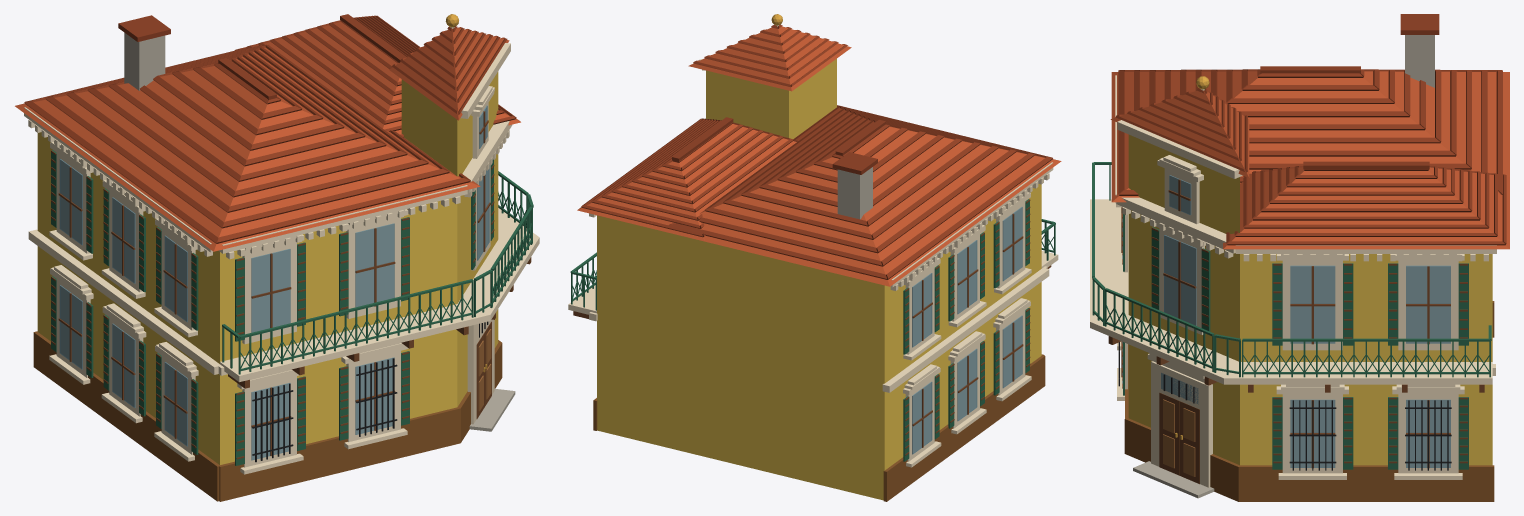
The model's file is casa-esquina-amarilla.glb.
3 views of the same model, side by side, from view 1: azimuth 30°, elevation 25°; view 2: azimuth 150°, elevation 25°; view 3: azimuth 270°, elevation 25° (orthographic). The views are drawn at different scales.
Visible parts, largest first — view 1: Casa_Esquina_Amarilla_Crema, Casa_Esquina_Amarilla_Teja, Casa_Esquina_Amarilla_MuroAmarillo, Casa_Esquina_Amarilla_TejaOscura, Casa_Esquina_Amarilla_Vidrio, Casa_Esquina_Amarilla_VerdeDetalle, Casa_Esquina_Amarilla_Zocalo, Casa_Esquina_Amarilla_Madera, Casa_Esquina_Amarilla_Piedra, Casa_Esquina_Amarilla_Hierro, Casa_Esquina_Amarilla_MaderaClara; view 2: Casa_Esquina_Amarilla_MuroAmarillo, Casa_Esquina_Amarilla_Teja, Casa_Esquina_Amarilla_TejaOscura, Casa_Esquina_Amarilla_Crema, Casa_Esquina_Amarilla_Vidrio, Casa_Esquina_Amarilla_VerdeDetalle, Casa_Esquina_Amarilla_Zocalo, Casa_Esquina_Amarilla_Madera, Casa_Esquina_Amarilla_Piedra; view 3: Casa_Esquina_Amarilla_Crema, Casa_Esquina_Amarilla_Teja, Casa_Esquina_Amarilla_MuroAmarillo, Casa_Esquina_Amarilla_TejaOscura, Casa_Esquina_Amarilla_VerdeDetalle, Casa_Esquina_Amarilla_Vidrio, Casa_Esquina_Amarilla_Zocalo, Casa_Esquina_Amarilla_Madera, Casa_Esquina_Amarilla_Hierro, Casa_Esquina_Amarilla_Piedra, Casa_Esquina_Amarilla_MaderaClara.
Boxes of the visible parts, box(x1,y1,x2,y2) form: Casa_Esquina_Amarilla_Crema: box(24, 27, 539, 474); Casa_Esquina_Amarilla_Teja: box(15, 22, 520, 251); Casa_Esquina_Amarilla_MuroAmarillo: box(37, 71, 498, 464); Casa_Esquina_Amarilla_TejaOscura: box(24, 14, 516, 243); Casa_Esquina_Amarilla_Vidrio: box(59, 105, 489, 460); Casa_Esquina_Amarilla_VerdeDetalle: box(51, 150, 533, 465); Casa_Esquina_Amarilla_Zocalo: box(33, 331, 502, 501); Casa_Esquina_Amarilla_Madera: box(51, 111, 531, 459); Casa_Esquina_Amarilla_Piedra: box(124, 32, 515, 431); Casa_Esquina_Amarilla_Hierro: box(252, 321, 488, 462); Casa_Esquina_Amarilla_MaderaClara: box(478, 329, 491, 411); Casa_Esquina_Amarilla_MuroAmarillo: box(597, 58, 1041, 500); Casa_Esquina_Amarilla_Teja: box(577, 26, 1061, 286); Casa_Esquina_Amarilla_TejaOscura: box(581, 24, 1052, 279); Casa_Esquina_Amarilla_Crema: box(568, 25, 1058, 467); Casa_Esquina_Amarilla_Vidrio: box(912, 207, 1022, 454); Casa_Esquina_Amarilla_VerdeDetalle: box(570, 199, 1055, 461); Casa_Esquina_Amarilla_Zocalo: box(593, 354, 1045, 501); Casa_Esquina_Amarilla_Madera: box(573, 199, 1051, 455); Casa_Esquina_Amarilla_Piedra: box(837, 167, 872, 219); Casa_Esquina_Amarilla_Crema: box(1090, 75, 1496, 487); Casa_Esquina_Amarilla_Teja: box(1110, 71, 1509, 249); Casa_Esquina_Amarilla_MuroAmarillo: box(1128, 134, 1492, 465); Casa_Esquina_Amarilla_TejaOscura: box(1115, 14, 1506, 245); Casa_Esquina_Amarilla_VerdeDetalle: box(1092, 162, 1491, 469); Casa_Esquina_Amarilla_Vidrio: box(1122, 175, 1450, 467); Casa_Esquina_Amarilla_Zocalo: box(1124, 301, 1494, 501); Casa_Esquina_Amarilla_Madera: box(1108, 179, 1484, 484); Casa_Esquina_Amarilla_Hierro: box(1118, 342, 1451, 470); Casa_Esquina_Amarilla_Piedra: box(1133, 35, 1434, 498); Casa_Esquina_Amarilla_MaderaClara: box(1163, 399, 1195, 476).
Bounding box in the file's own units: 10.3 × 10.11 × 9.8.
